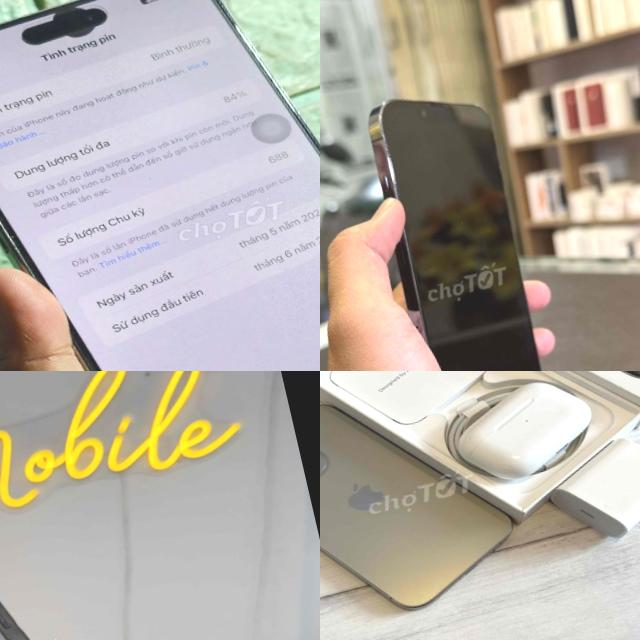screen_defect: (0, 0, 129, 60)
